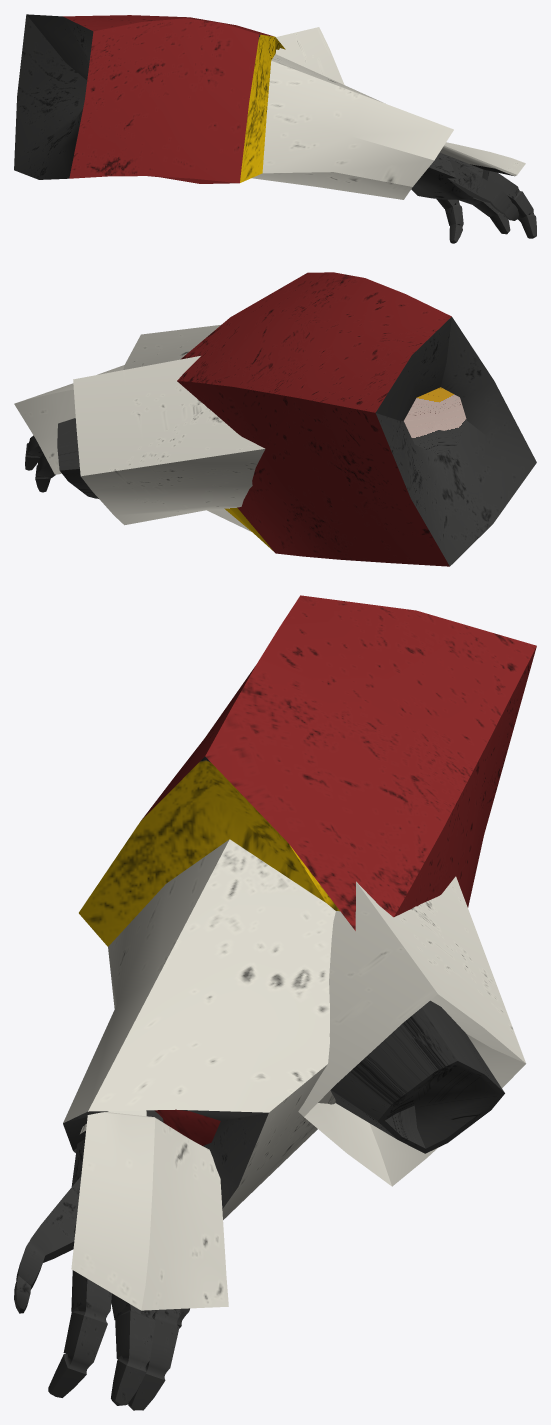
The model's file is Mech_1_Larm.fbx.
3 renders of one model, top to bottom at view 1: azimuth 30°, elevation 25°; view 2: azimuth 150°, elevation 25°; view 3: azimuth 270°, elevation 25°, orthographic. The views are drawn at different scales.
Visible parts, largest first — view 1: l.arm; view 2: l.arm; view 3: l.arm.
Part boxes in pixels (box(x1,y1,x2,y2)): l.arm: box(14, 14, 536, 243); l.arm: box(14, 272, 536, 566); l.arm: box(14, 595, 536, 1410).
Bounding box in the file's own units: 1.07 × 0.6175 × 0.5989.
